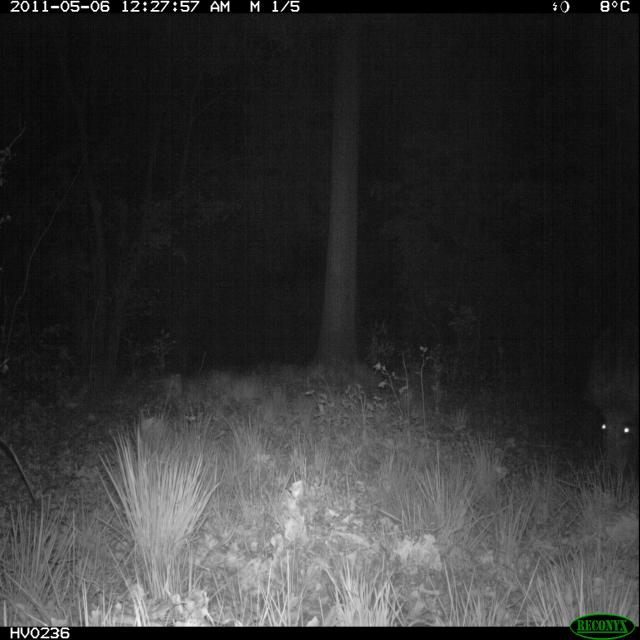boar: (563, 290, 640, 496)
